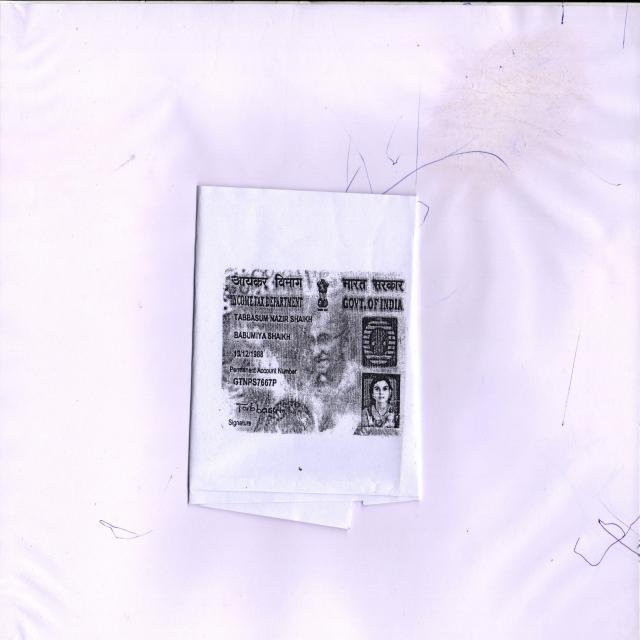pan_card: (217, 269, 410, 434)
